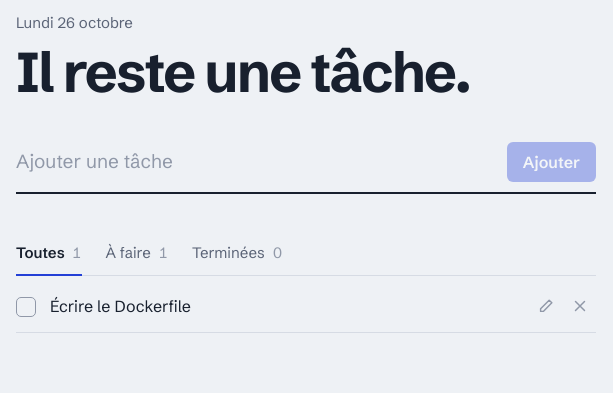
Test case: App › accorde le titre au singulier et quand tout est terminé
Expected: the heading "Il reste une tâche." is shown, [16,36,470,106]
Click the checkbox named "Marquer « Écrire le Dockerfile » comme terminée" at (26, 307), box [16,297,36,317]
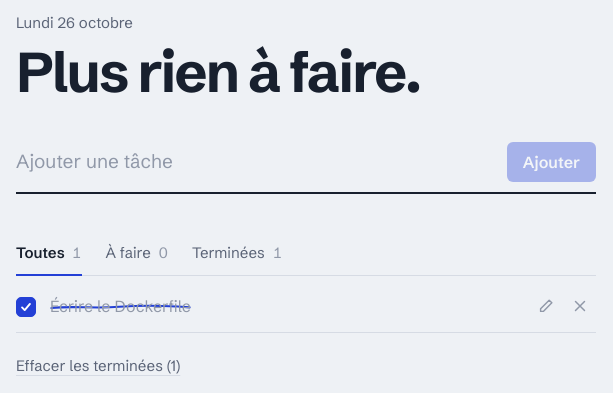
Now the heading "Plus rien à faire." is shown, box [16,36,420,106]
